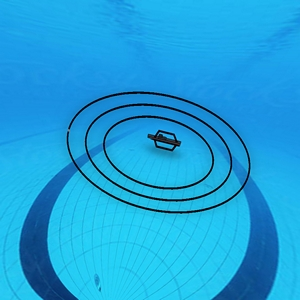circle: (66, 92, 249, 210)
submarine: (143, 127, 181, 152)
